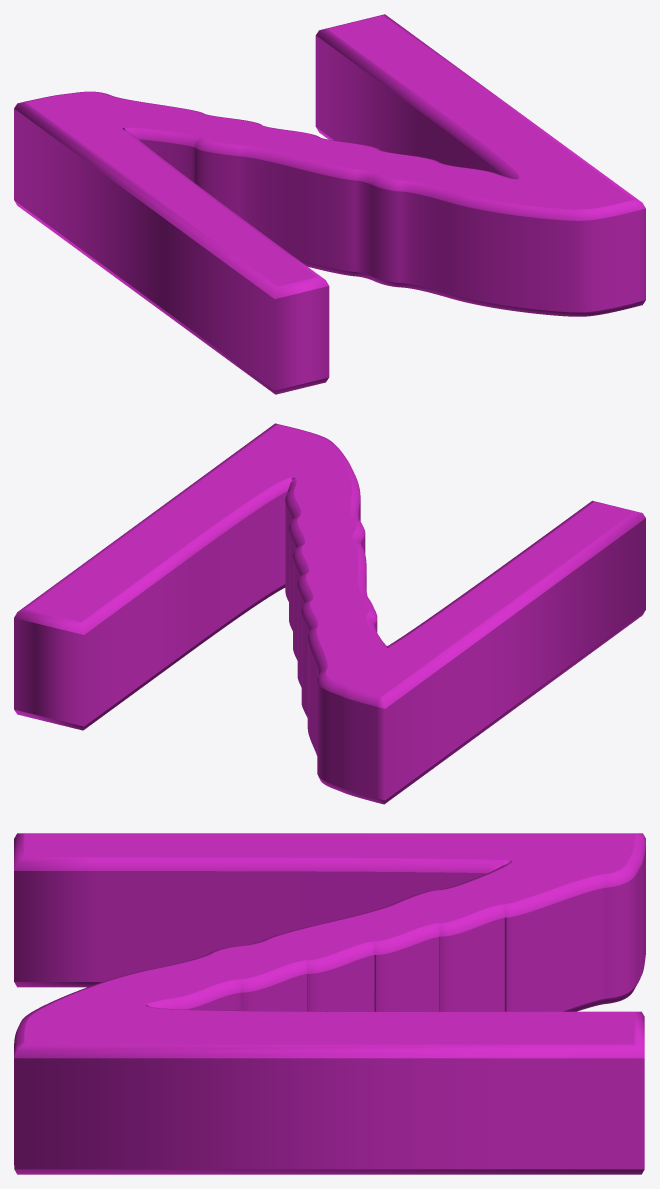
Rendered from Blocky_LetterN.fbx.
3 views of the same model, one above another, from view 1: azimuth 30°, elevation 25°; view 2: azimuth 150°, elevation 25°; view 3: azimuth 270°, elevation 25° (orthographic). The views are drawn at different scales.
Visible parts, largest first — view 1: BlockyLetter_N; view 2: BlockyLetter_N; view 3: BlockyLetter_N.
Boxes of the visible parts, bbox=[...] form: BlockyLetter_N: bbox=[14, 14, 645, 394]; BlockyLetter_N: bbox=[14, 423, 645, 804]; BlockyLetter_N: bbox=[14, 833, 645, 1174].
Size of the model in its own units: 0.5094 by 0.14 by 0.6194.
